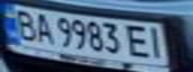3: (103, 20, 127, 56)
8: (84, 19, 106, 53)
9: (51, 15, 75, 48), (69, 17, 87, 51)
A: (30, 11, 57, 44)
B: (9, 7, 39, 40)
E: (124, 22, 154, 60)
I: (142, 24, 169, 60)
